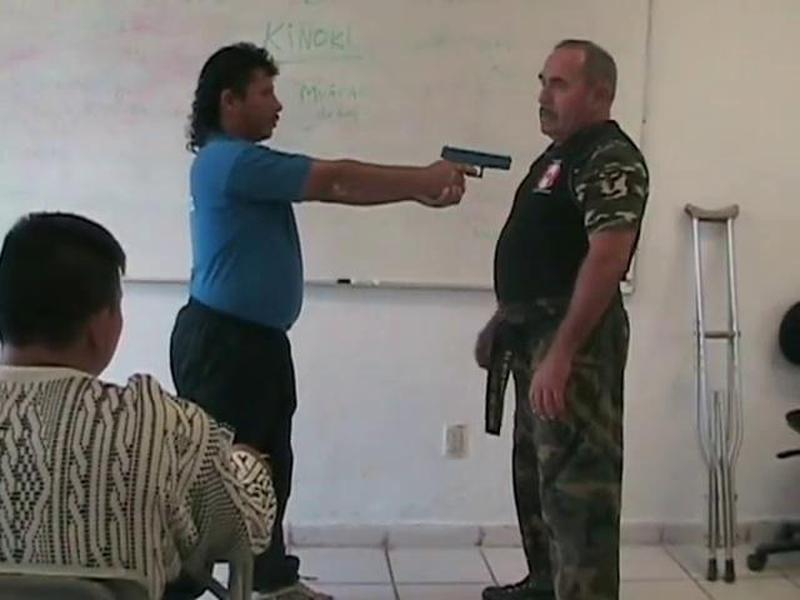Pistola: (434, 139, 516, 188)
